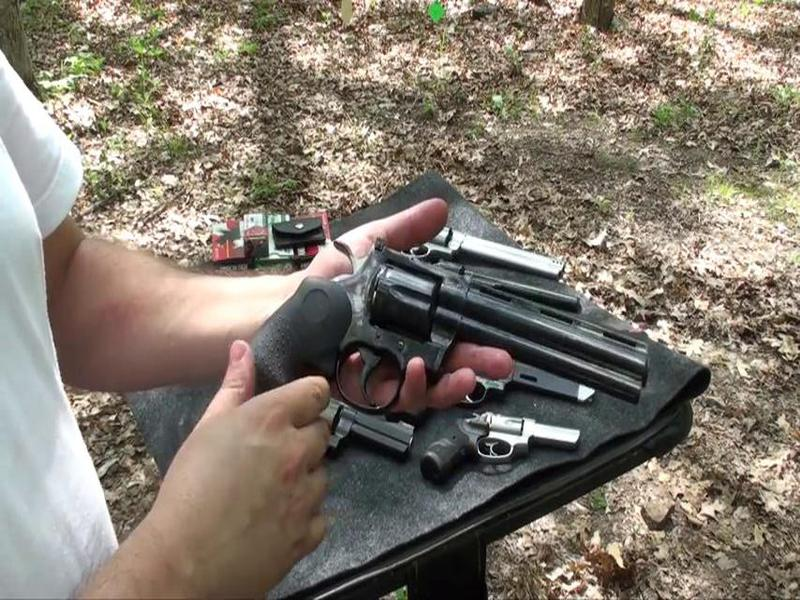Revolver: (234, 238, 654, 434)
